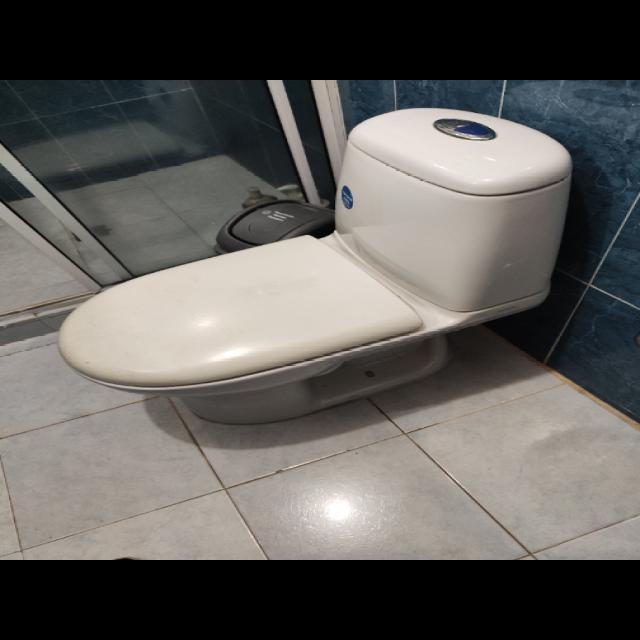toilet: (56, 106, 573, 425)
